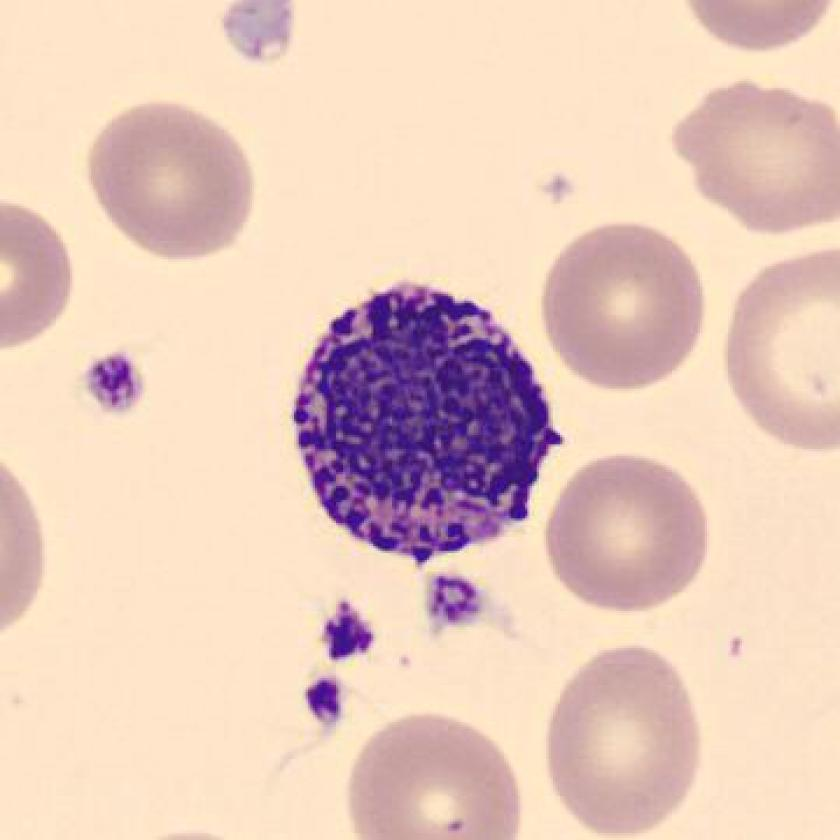basophil: (279, 253, 580, 577)
